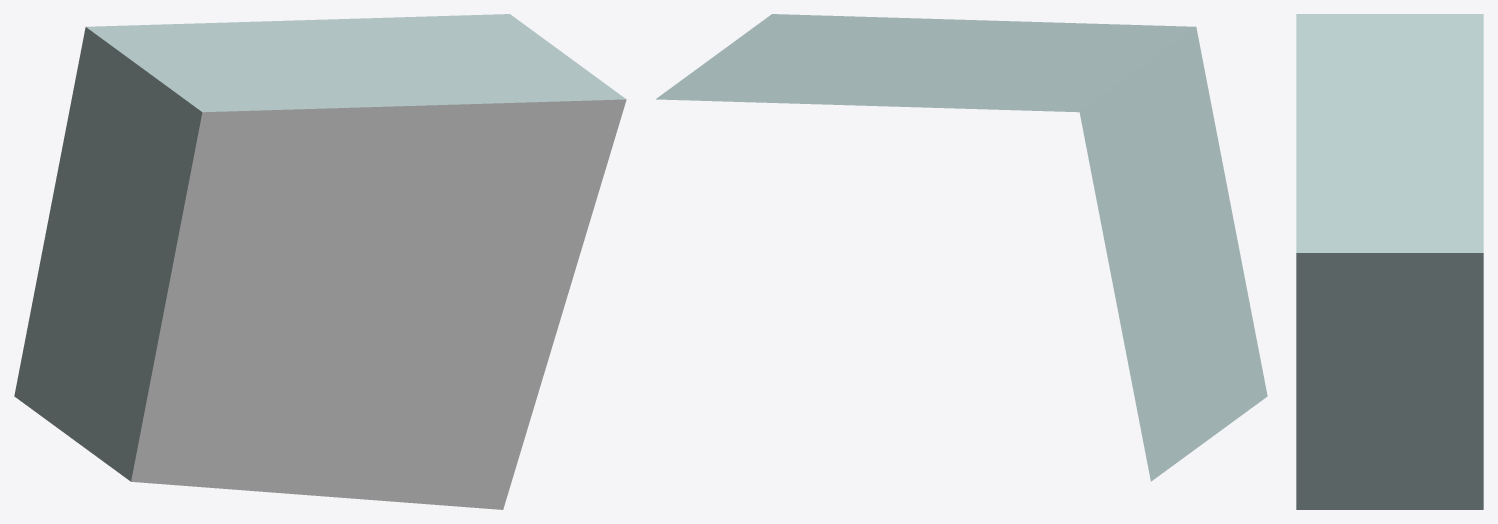
The picture shows the model from 3 angles, left to right: view 1: azimuth 30°, elevation 25°; view 2: azimuth 150°, elevation 25°; view 3: azimuth 270°, elevation 25°; orthographic projection. The views are drawn at different scales.
Visible parts, largest first — view 1: 0_3_1_2_3_3_0_1_2; view 2: 0_3_1_2_3_3_0_1_2; view 3: 0_3_1_2_3_3_0_1_2.
Boxes of the visible parts, x1=… form: 0_3_1_2_3_3_0_1_2: x1=14, y1=14, x2=626, y2=509; 0_3_1_2_3_3_0_1_2: x1=656, y1=14, x2=1267, y2=481; 0_3_1_2_3_3_0_1_2: x1=1296, y1=14, x2=1483, y2=509.
Bounding box in the file's own units: 7.35 × 6.68 × 3.
